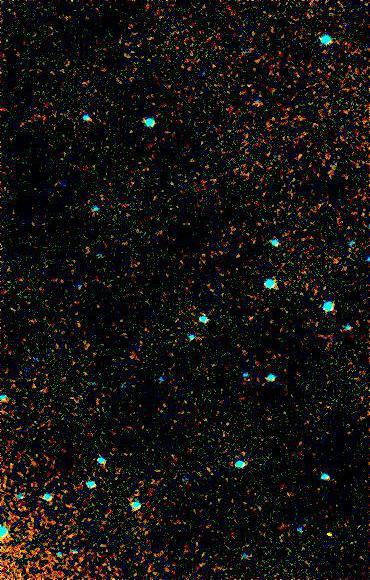star: (313, 519, 343, 549)
